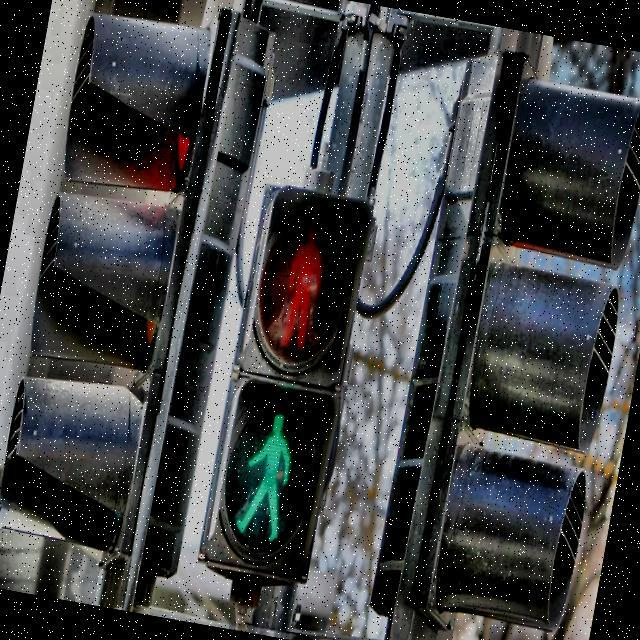green_light: (230, 403, 302, 546)
